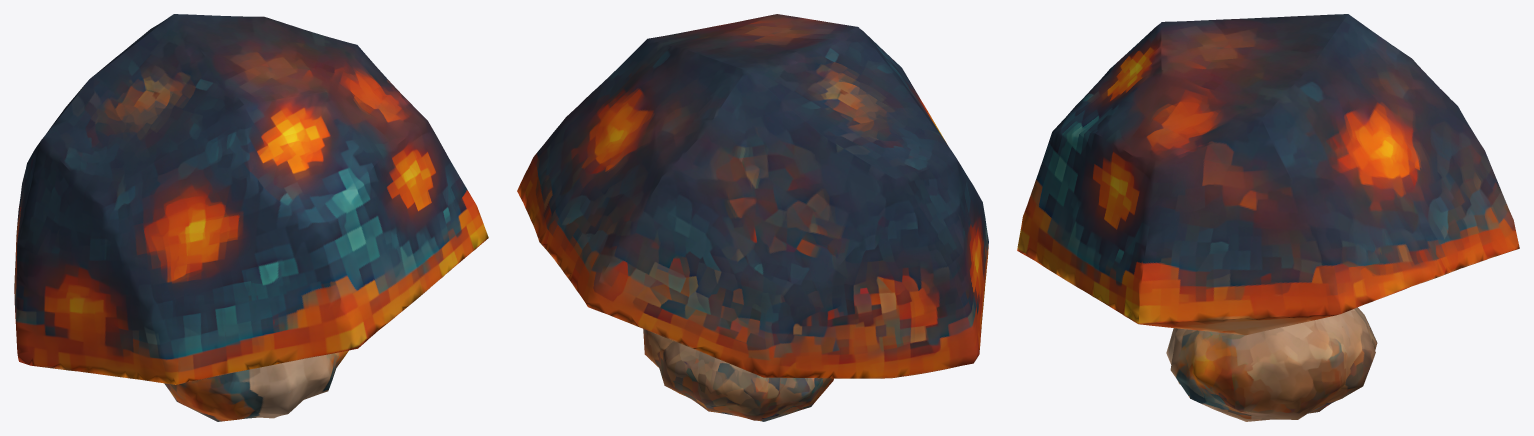
File: pixelated_mushroom_3d_model.glb
3 views of the same model, side by side, from view 1: azimuth 30°, elevation 25°; view 2: azimuth 150°, elevation 25°; view 3: azimuth 270°, elevation 25° (orthographic). The views are drawn at different scales.
Parts seen in each view (by area): view 1: tripo_node_1ac0cc5d-c76c-4c2e-8940-c72bc370958c; view 2: tripo_node_1ac0cc5d-c76c-4c2e-8940-c72bc370958c; view 3: tripo_node_1ac0cc5d-c76c-4c2e-8940-c72bc370958c.
Boxes of the visible parts, x1=… form: tripo_node_1ac0cc5d-c76c-4c2e-8940-c72bc370958c: x1=14, y1=14, x2=488, y2=421; tripo_node_1ac0cc5d-c76c-4c2e-8940-c72bc370958c: x1=517, y1=14, x2=988, y2=421; tripo_node_1ac0cc5d-c76c-4c2e-8940-c72bc370958c: x1=1017, y1=14, x2=1519, y2=421.
Size of the model in its own units: 0.9802 by 0.8209 by 0.9793.
Materials: 1 (1 with a texture image).
